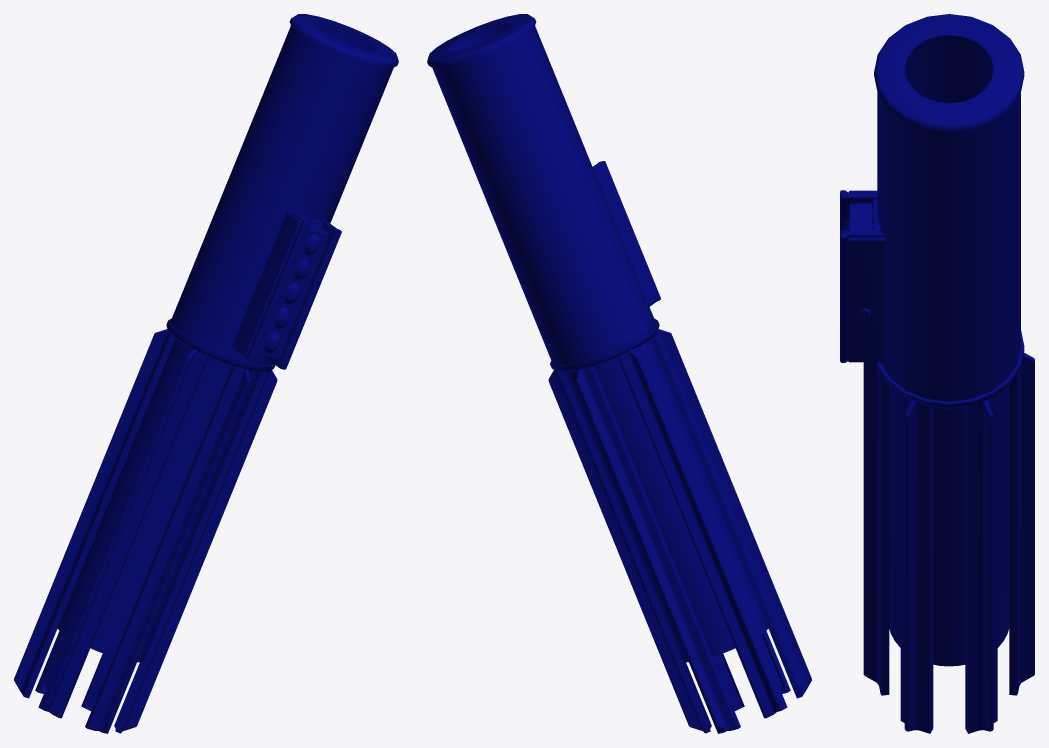
Rendered from Grip_Vader.obj.
3 renders of one model, left to right at view 1: azimuth 30°, elevation 25°; view 2: azimuth 150°, elevation 25°; view 3: azimuth 270°, elevation 25°, orthographic. The views are drawn at different scales.
Visible parts, largest first — view 1: Grip_Vader Vader_GRP; view 2: Grip_Vader Vader_GRP; view 3: Grip_Vader Vader_GRP.
Boxes of the visible parts, x1=… form: Grip_Vader Vader_GRP: x1=14, y1=14, x2=398, y2=733; Grip_Vader Vader_GRP: x1=427, y1=14, x2=811, y2=733; Grip_Vader Vader_GRP: x1=840, y1=14, x2=1034, y2=733.
Bounding box in the file's own units: 9.75 × 16.8 × 3.53.
